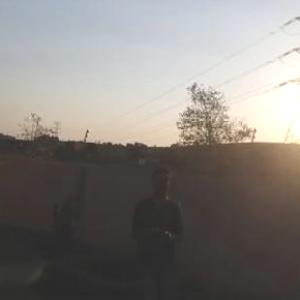follow: (123, 158, 184, 299)
